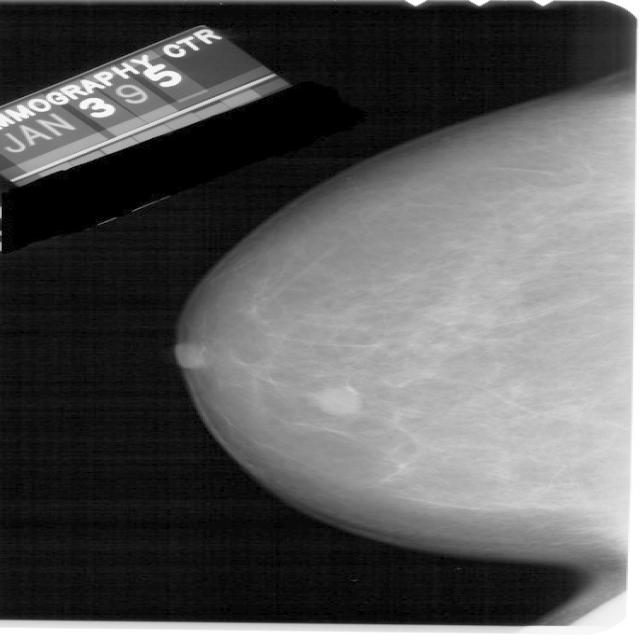tumour: (310, 384, 356, 416)
